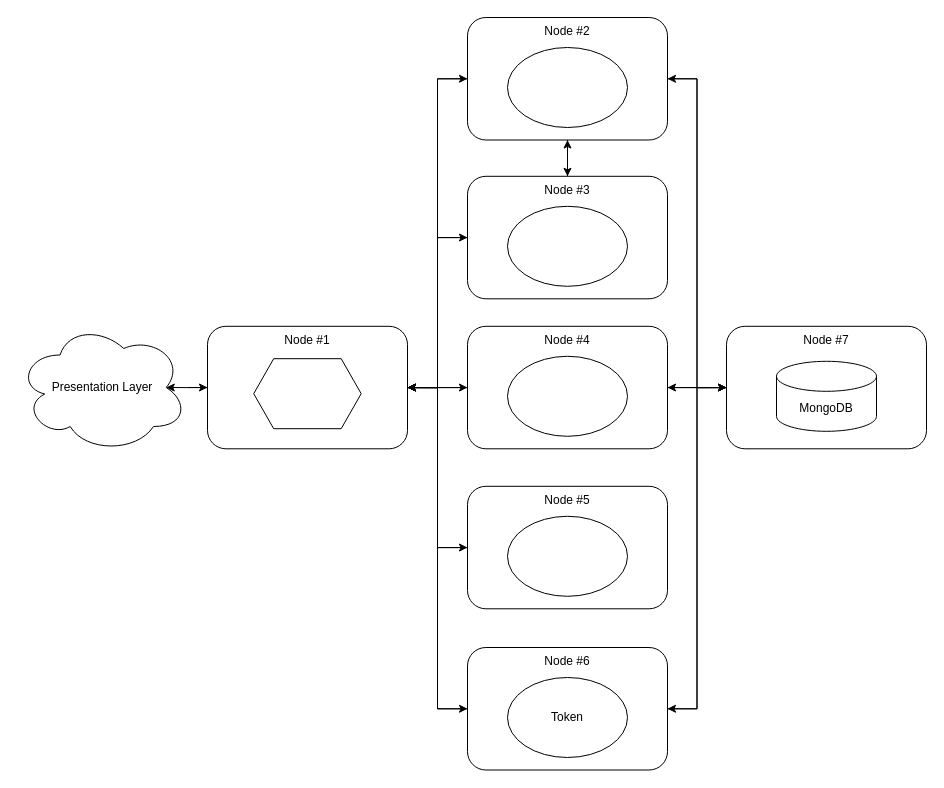
The diagram is 944 pixels wide and 788 high, and some of its shapes have lost their labels. The shapes that lost their labels are listed below. From the top down, each one's centre as x and y in pixels, then its label:
At point 567,87: "User".
At point 567,245: "Mailer".
At point 307,393: "API Gateway".
At point 567,395: "Task".
At point 567,555: "Permission".
